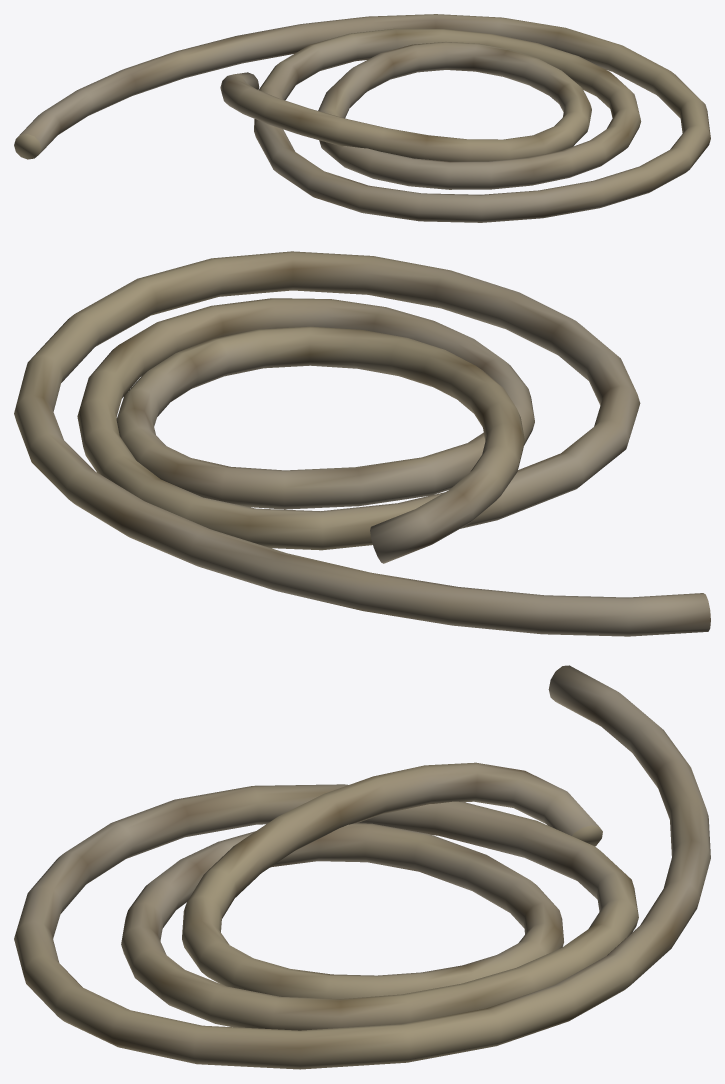
File: Rope_3.glb
3 views of the same model, one above another, from view 1: azimuth 30°, elevation 25°; view 2: azimuth 150°, elevation 25°; view 3: azimuth 270°, elevation 25° (orthographic). The views are drawn at different scales.
Visible parts, largest first — view 1: Rope_3; view 2: Rope_3; view 3: Rope_3.
Part boxes in pixels (<box>): Rope_3: <box>14,14,710,222</box>; Rope_3: <box>14,251,710,636</box>; Rope_3: <box>14,665,710,1069</box>.
Bounding box in the file's own units: 1.23 × 0.1018 × 0.9508.
